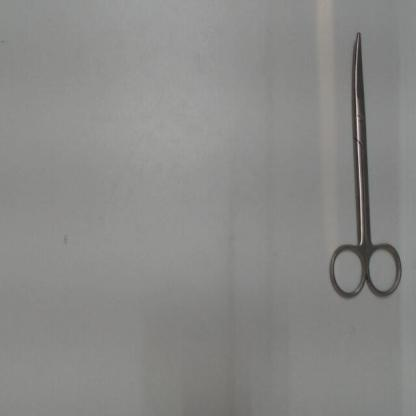Curved Mayo Scissors: (323, 23, 408, 305)
